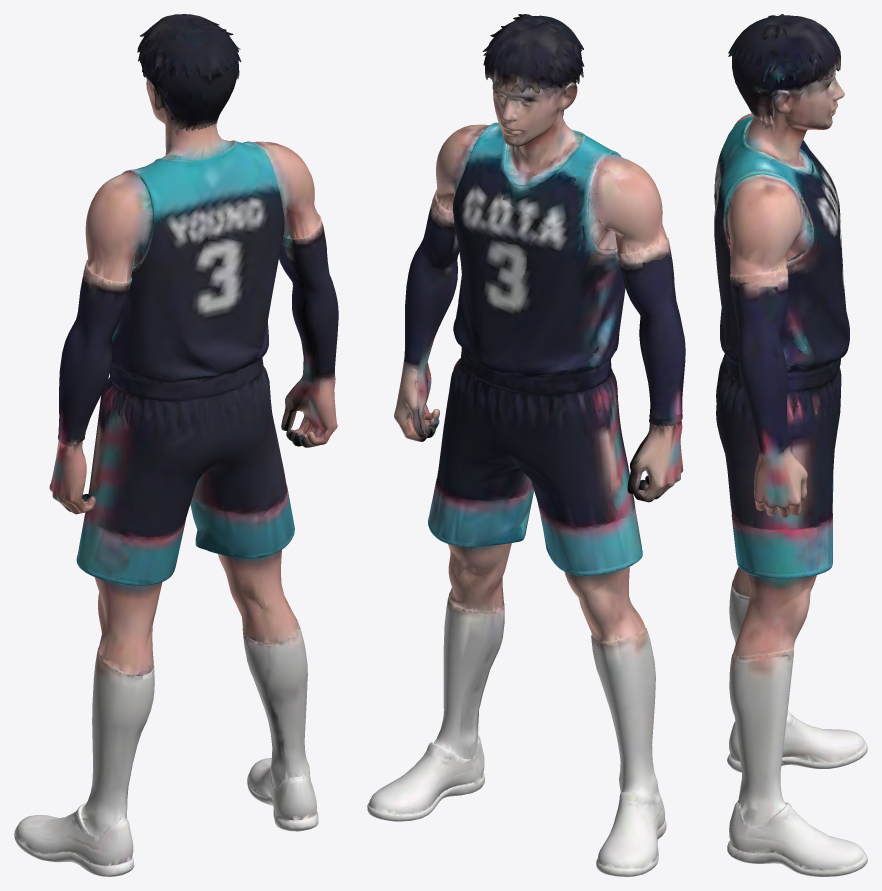
3 views of the same model, side by side, from view 1: azimuth 30°, elevation 25°; view 2: azimuth 150°, elevation 25°; view 3: azimuth 270°, elevation 25° (orthographic). The views are drawn at different scales.
Visible parts, largest first — view 1: lo; view 2: lo; view 3: lo.
Boxes of the visible parts, x1=… form: lo: x1=14, y1=14, x2=338, y2=876; lo: x1=367, y1=14, x2=685, y2=876; lo: x1=714, y1=14, x2=867, y2=876.
Size of the model in its own units: 0.4112 by 1.13 by 0.1988.
Materials: 1 (1 with a texture image).
